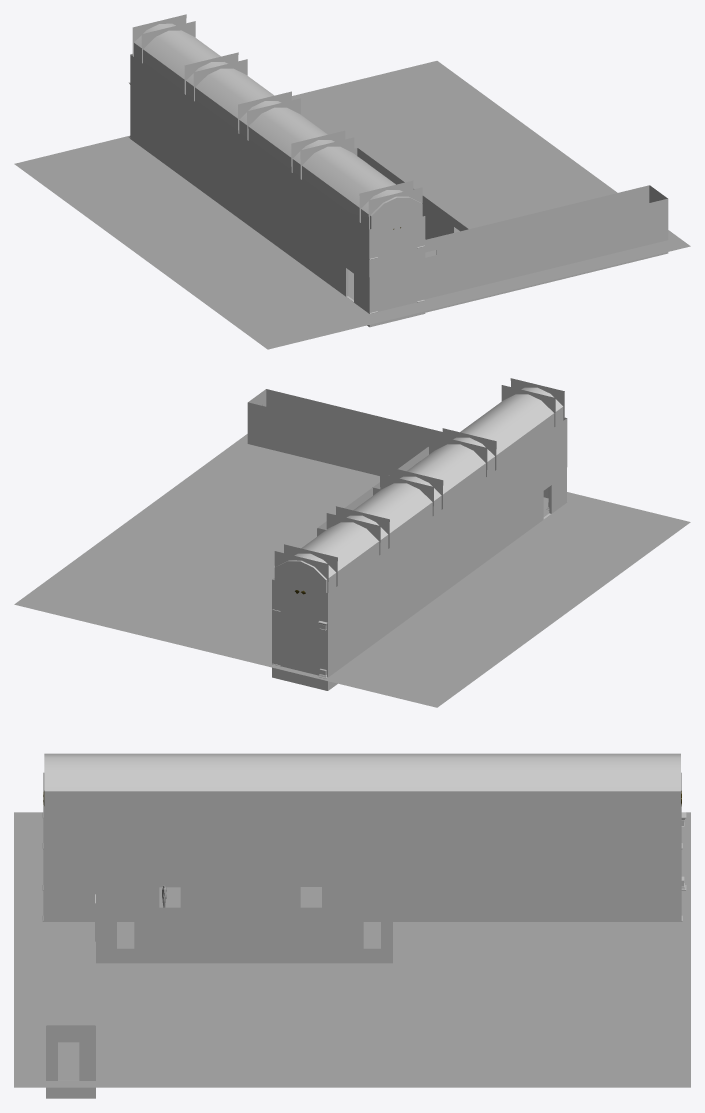
File: entireHallTestScene.fbx
3 views of the same model, one above another, from view 1: azimuth 30°, elevation 25°; view 2: azimuth 150°, elevation 25°; view 3: azimuth 270°, elevation 25° (orthographic). The views are drawn at different scales.
Parts seen in each view (by area): view 1: pPlane1, polySurface272, polySurface260, ceilingArch1 (×4), polySurface268, ceilingArch; view 2: pPlane1, polySurface272, polySurface260, ceilingArch1 (×4), ceilingArch, polySurface268; view 3: pPlane1, polySurface272, polySurface268, polySurface260.
Part boxes in pixels (<box>): pPlane1: <box>14,61,690,349</box>; polySurface272: <box>130,23,425,327</box>; polySurface260: <box>425,185,668,312</box>; ceilingArch1 (×4): <box>184,52,422,229</box>; polySurface268: <box>354,148,468,239</box>; ceilingArch: <box>132,14,195,63</box>; pPlane1: <box>14,434,690,707</box>; polySurface272: <box>272,387,567,690</box>; polySurface260: <box>247,389,442,475</box>; ceilingArch1 (×4): <box>326,378,564,555</box>; ceilingArch: <box>274,544,337,592</box>; polySurface268: <box>317,447,428,536</box>; pPlane1: <box>14,812,690,1087</box>; polySurface272: <box>43,753,681,921</box>; polySurface268: <box>96,907,392,963</box>; polySurface260: <box>46,894,95,1098</box>.
Size of the model in its own units: 4579 by 1300 by 4755.
